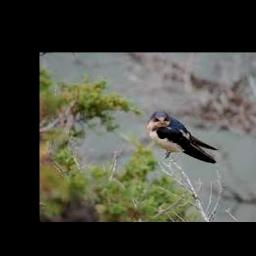Swallow: (148, 110, 219, 162)
